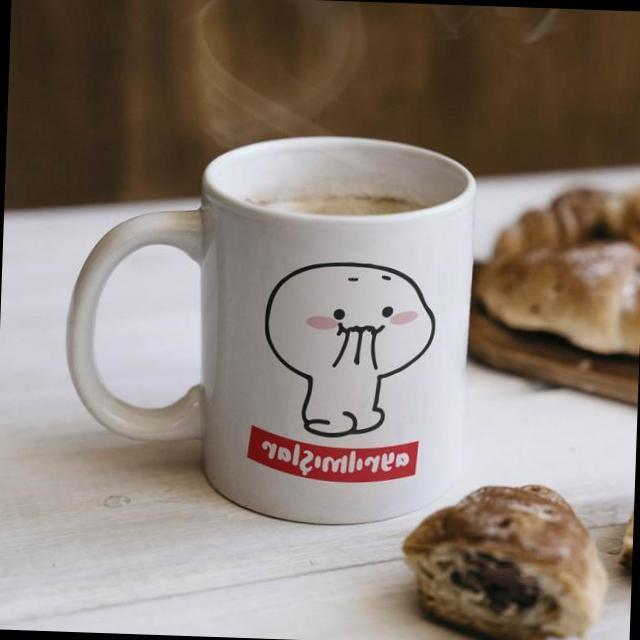taza: (64, 117, 484, 526)
